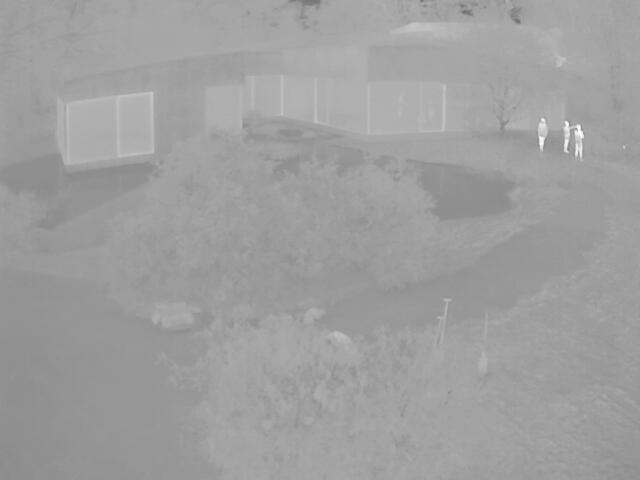person: (537, 117, 548, 154), (573, 123, 583, 158), (561, 118, 570, 152)
